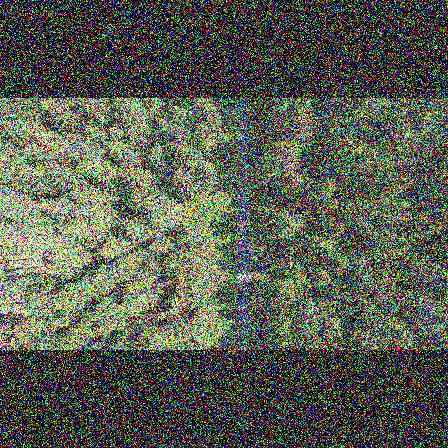Sick: (380, 204, 408, 231), (370, 283, 398, 307), (394, 122, 422, 146), (350, 250, 376, 273), (77, 155, 98, 176), (166, 296, 186, 318), (355, 270, 376, 287)
